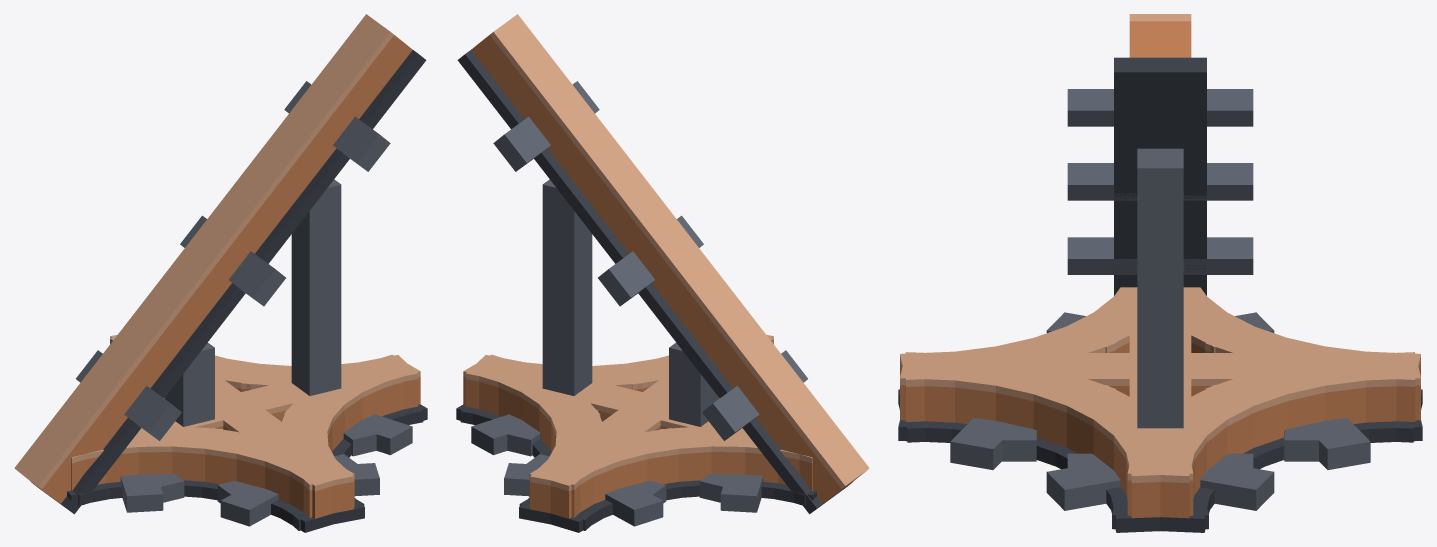
Rendered from rail.glb.
3 renders of one model, left to right at view 1: azimuth 30°, elevation 25°; view 2: azimuth 150°, elevation 25°; view 3: azimuth 270°, elevation 25°, orthographic. The views are drawn at different scales.
Visible parts, largest first — view 1: slope, arc_x-y-, arc_y-x+, arc_x+y+, y-.001, x+.001, x-.001, body.004, arc_y+x-; view 2: slope, arc_y+x-, arc_x+y+, arc_y-x+, y+.001, x+.001, x-.001, body.004, arc_x-y-; view 3: slope, arc_x+y+, arc_y-x+, arc_x-y-, arc_y+x-, y-.001, y+.001, x+.001.
Part boxes in pixels (<box>): slope: <box>14,14,426,514</box>; arc_x-y-: <box>67,426,364,532</box>; arc_y-x+: <box>278,354,427,530</box>; arc_x+y+: <box>110,337,423,438</box>; y-.001: <box>217,410,360,513</box>; x+.001: <box>241,364,376,456</box>; x-.001: <box>134,414,223,502</box>; body.004: <box>215,392,264,420</box>; arc_y+x-: <box>71,335,164,505</box>; slope: <box>457,14,869,514</box>; arc_y+x-: <box>519,425,816,532</box>; arc_x+y+: <box>456,354,605,530</box>; arc_y-x+: <box>460,337,773,438</box>; y+.001: <box>525,410,666,517</box>; x+.001: <box>495,356,642,456</box>; x-.001: <box>660,414,790,502</box>; body.004: <box>619,392,668,420</box>; arc_x-y-: <box>708,335,812,505</box>; slope: <box>1067,14,1253,428</box>; arc_x+y+: <box>1112,352,1422,532</box>; arc_y-x+: <box>898,352,1235,532</box>; arc_x-y-: <box>898,287,1184,442</box>; arc_y+x-: <box>1136,287,1422,442</box>; y-.001: <box>912,353,1129,461</box>; y+.001: <box>1191,353,1408,461</box>; x+.001: <box>1067,379,1253,512</box>.
Size of the model in its own units: 1.14 by 1.13 by 1.06.
